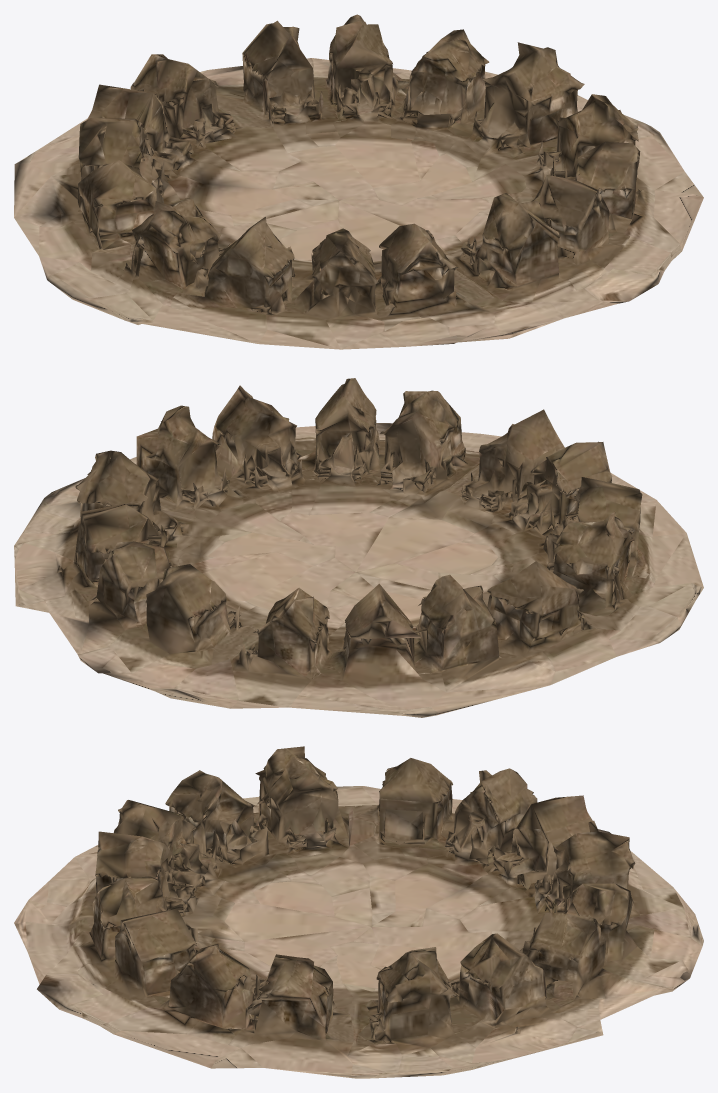
The model's file is village_small_lod.glb.
3 views of the same model, one above another, from view 1: azimuth 30°, elevation 25°; view 2: azimuth 150°, elevation 25°; view 3: azimuth 270°, elevation 25° (orthographic).
Bounding box in the file's own units: 1.9 × 0.2649 × 1.9.
1 material, 1 textured.
